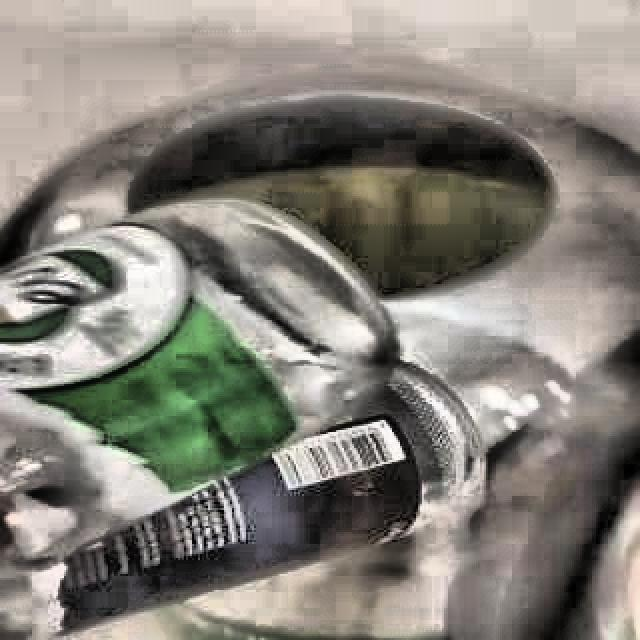glass: (0, 202, 481, 640)
